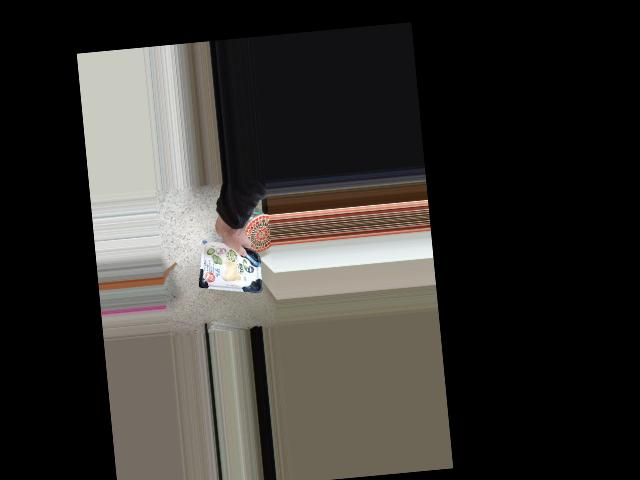cheese: (200, 227, 251, 281)
